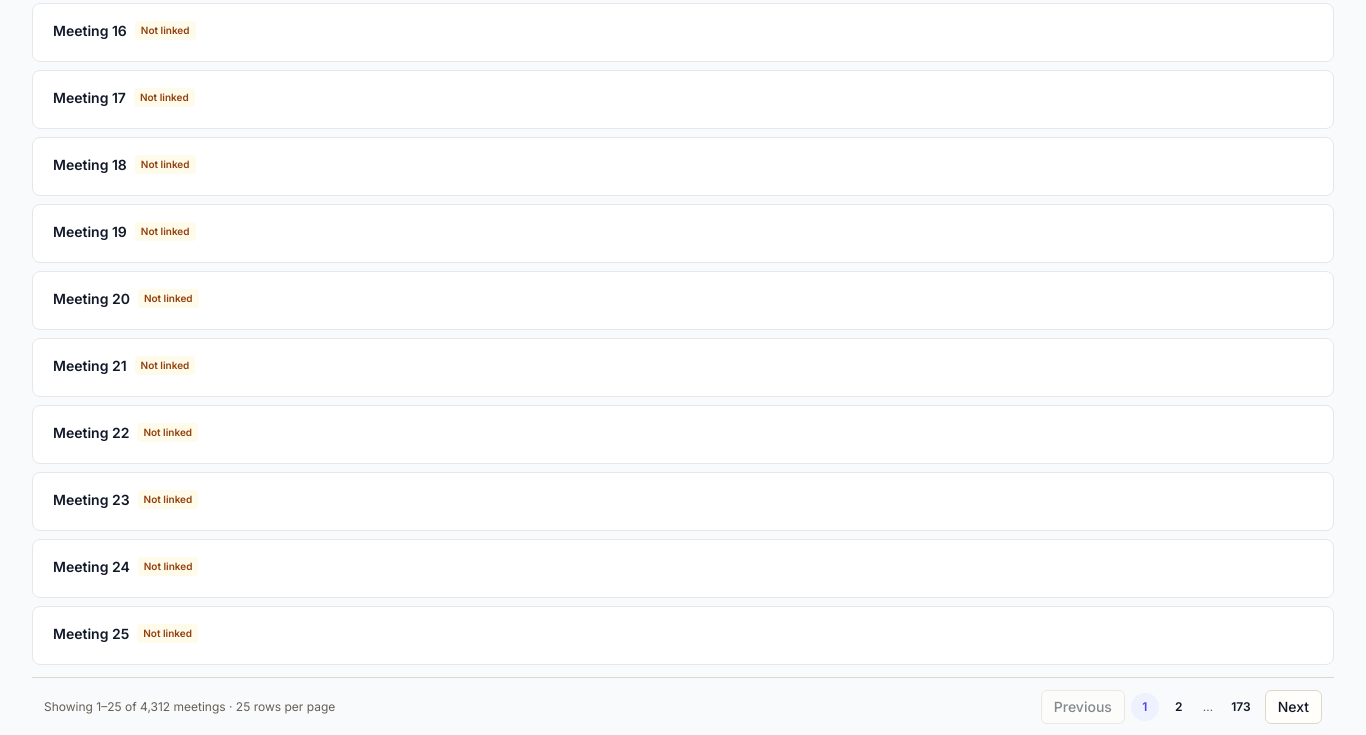
Test: Meetings list on the server (slice 6c) › Next asks the server for the next page
The image size is (1366, 735).
(page scrolled)
Click the button "Next" at (1293, 706), box top-left (1265, 690), bottom-right (1322, 724)
(page scrolled)
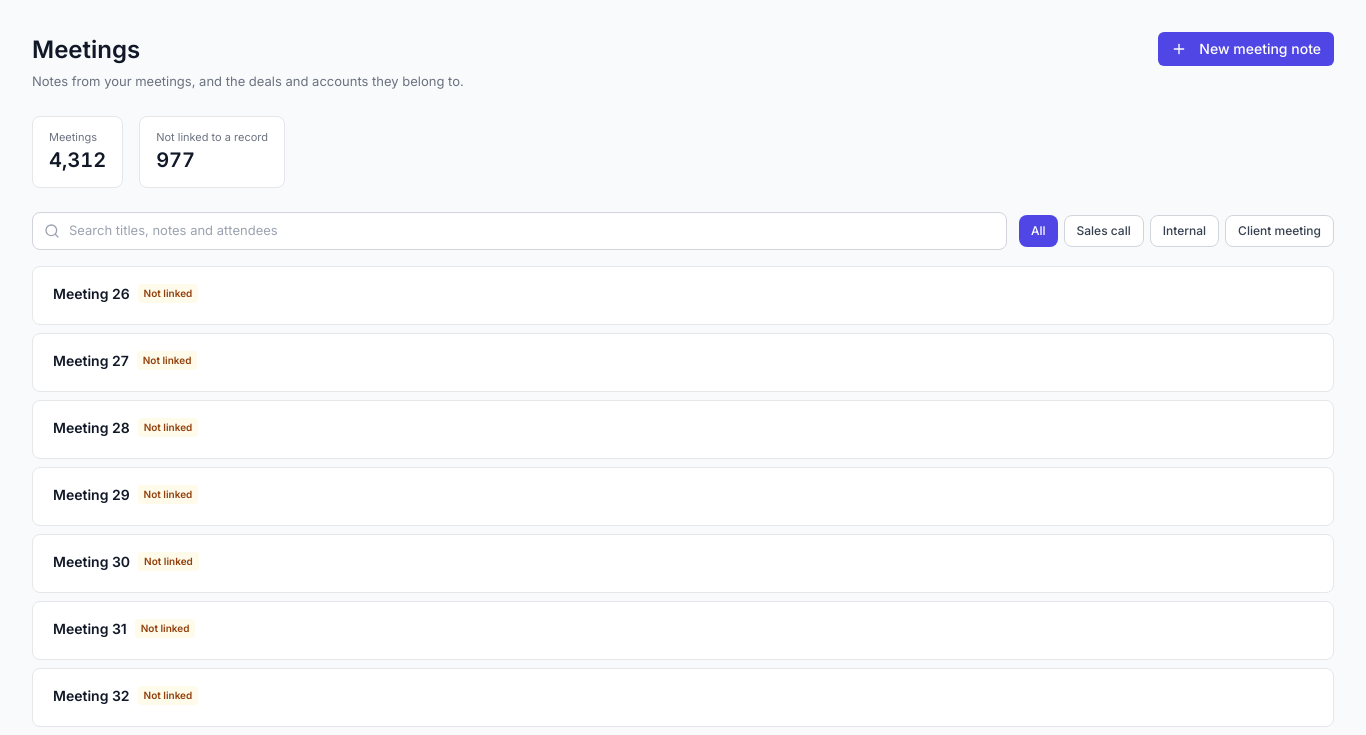
expect the text "Meeting 26" is shown: met, box top-left (53, 282), bottom-right (130, 304)
